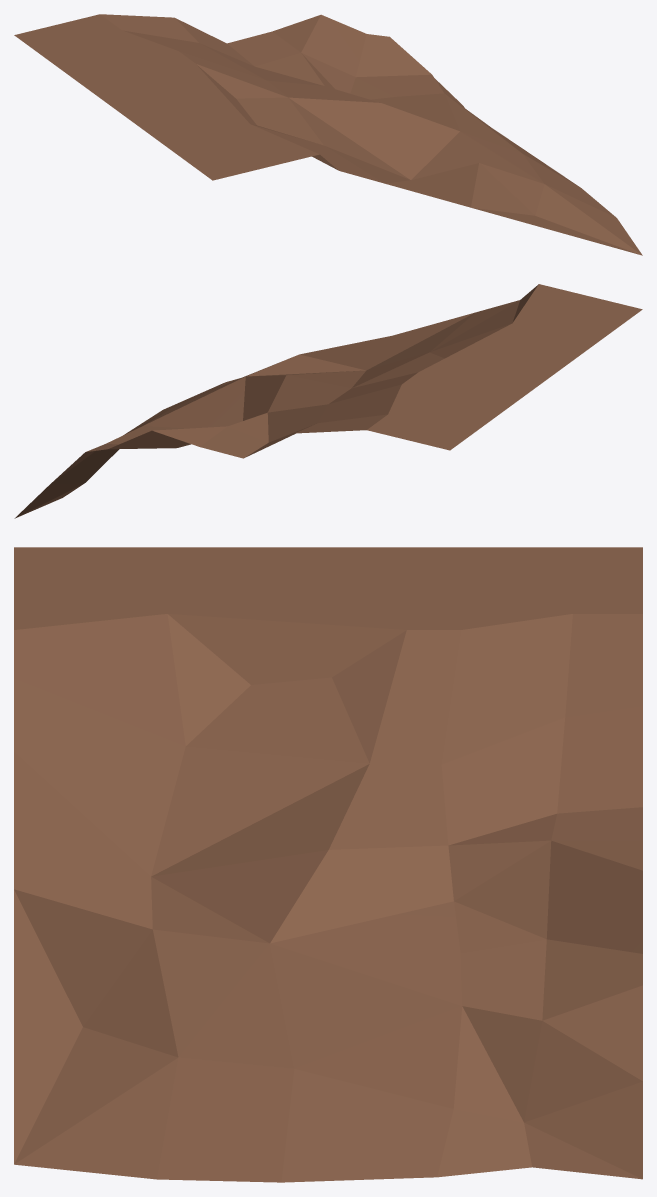
The model's file is terrain_3.FBX.
3 views of the same model, one above another, from view 1: azimuth 30°, elevation 25°; view 2: azimuth 150°, elevation 25°; view 3: azimuth 270°, elevation 25° (orthographic). The views are drawn at different scales.
Visible parts, largest first — view 1: terrain_3; view 2: terrain_3; view 3: terrain_3.
Part boxes in pixels (x1=…): terrain_3: x1=14, y1=14, x2=642, y2=255; terrain_3: x1=14, y1=284, x2=642, y2=518; terrain_3: x1=14, y1=547, x2=642, y2=1182.
Size of the model in its own units: 408 by 155 by 310.
